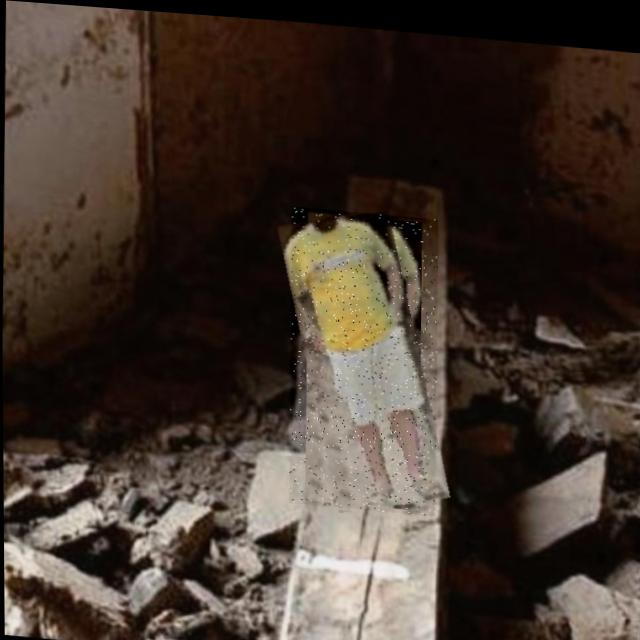Person in Rubble: (287, 201, 439, 509)
